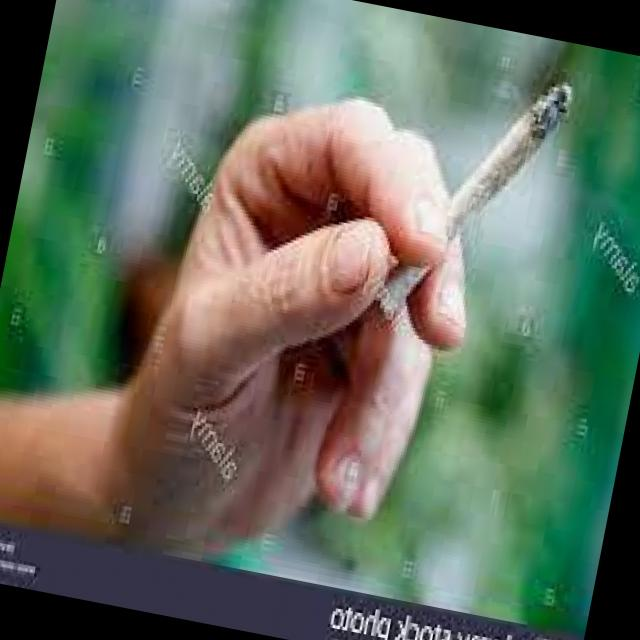smoke: (372, 48, 576, 349)
